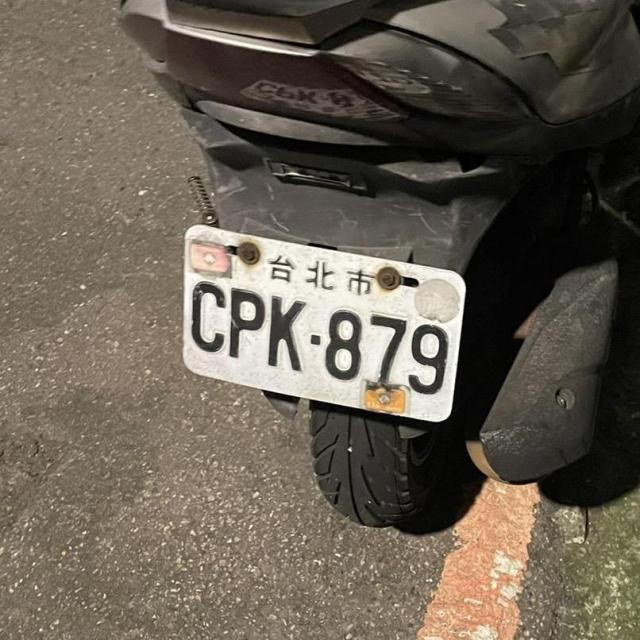W: (167, 218, 477, 430)
